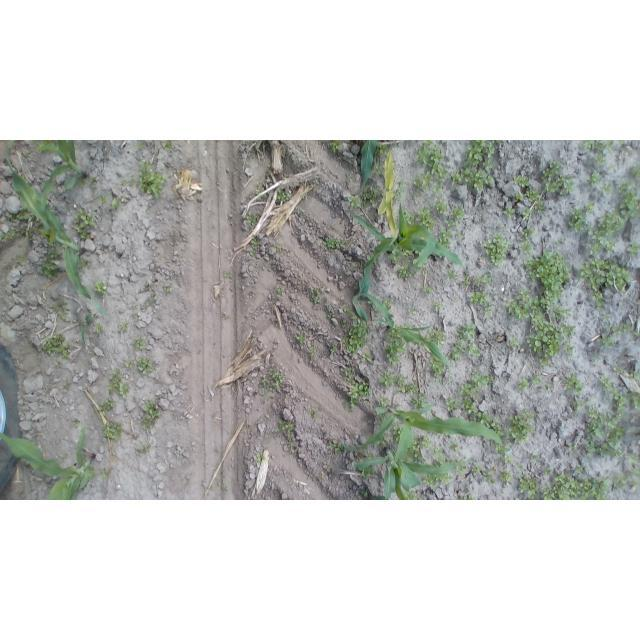Maize: (5, 141, 112, 317), (350, 202, 468, 321), (333, 400, 503, 450), (348, 424, 457, 500), (354, 293, 448, 368), (0, 428, 96, 500), (36, 140, 88, 209), (378, 151, 400, 237), (356, 141, 375, 196)
Weeds: (525, 249, 569, 309), (452, 140, 501, 192), (581, 258, 631, 306), (586, 406, 627, 456), (461, 375, 500, 426), (542, 473, 610, 500), (507, 289, 560, 318), (529, 318, 560, 366), (593, 208, 626, 251), (415, 141, 447, 182), (138, 160, 166, 197), (343, 376, 370, 412), (509, 408, 535, 442), (485, 232, 509, 266), (612, 390, 640, 414), (620, 188, 640, 221), (107, 369, 129, 399), (545, 176, 576, 197), (385, 334, 406, 365), (43, 335, 70, 358), (74, 209, 94, 240), (139, 400, 161, 428), (347, 323, 365, 353), (260, 367, 284, 389), (517, 475, 537, 500), (396, 375, 418, 394), (569, 206, 585, 231), (340, 304, 361, 323), (613, 322, 639, 337), (364, 188, 383, 208), (413, 172, 433, 191), (101, 420, 121, 438), (542, 160, 560, 179), (42, 260, 60, 279), (564, 375, 583, 392), (448, 342, 464, 362), (417, 207, 433, 226), (394, 179, 407, 200), (410, 442, 423, 463), (427, 328, 444, 344), (482, 467, 499, 483), (98, 398, 116, 413), (138, 356, 153, 374), (458, 324, 476, 339), (457, 485, 475, 500), (501, 469, 515, 488), (390, 250, 412, 262), (558, 324, 574, 340), (411, 393, 428, 408), (431, 359, 444, 378), (378, 373, 394, 388), (131, 337, 148, 351), (278, 419, 295, 433), (0, 230, 18, 243), (470, 292, 488, 305), (614, 471, 627, 489), (602, 333, 614, 351), (22, 220, 34, 238), (467, 342, 480, 358), (422, 476, 438, 489), (326, 236, 339, 252), (555, 308, 572, 320), (571, 398, 585, 412), (519, 240, 533, 253), (136, 445, 150, 458), (514, 175, 529, 187), (348, 195, 360, 210), (439, 231, 451, 246), (598, 141, 614, 152), (452, 206, 465, 219), (627, 242, 640, 255), (94, 282, 107, 295), (247, 212, 260, 225), (507, 336, 519, 350), (397, 269, 411, 281), (521, 227, 536, 238), (278, 189, 289, 204), (589, 172, 601, 185), (477, 275, 491, 286), (446, 398, 456, 413), (435, 201, 447, 213), (631, 163, 640, 179), (524, 190, 540, 199), (378, 396, 391, 407), (600, 376, 611, 389), (439, 474, 454, 483), (505, 206, 516, 218), (112, 196, 123, 208), (116, 322, 128, 333), (619, 181, 632, 191), (530, 372, 540, 385), (15, 257, 31, 265), (405, 492, 421, 500), (462, 271, 471, 285), (363, 353, 374, 364), (330, 142, 341, 153), (591, 244, 601, 256), (362, 467, 374, 477), (422, 436, 434, 446), (404, 212, 414, 224), (629, 450, 639, 462), (18, 212, 31, 221), (603, 184, 613, 195), (374, 165, 385, 175), (376, 145, 386, 156), (596, 152, 605, 164), (123, 179, 136, 187), (585, 202, 595, 212), (103, 469, 113, 479), (327, 439, 337, 449), (523, 208, 532, 219), (49, 247, 58, 258), (384, 299, 393, 310), (161, 140, 173, 148), (592, 350, 600, 362), (627, 370, 640, 377), (534, 200, 543, 210), (393, 426, 402, 436), (163, 284, 173, 293), (447, 270, 457, 279), (433, 300, 442, 310), (519, 379, 528, 389), (468, 464, 478, 473), (496, 446, 506, 455), (630, 469, 640, 478), (515, 192, 523, 203), (434, 188, 443, 197), (564, 344, 573, 353), (361, 490, 370, 499), (603, 313, 612, 322), (456, 465, 466, 473), (528, 453, 538, 461), (586, 141, 594, 150), (450, 444, 459, 452), (225, 271, 234, 279), (484, 306, 493, 314), (614, 366, 623, 374), (345, 367, 353, 376), (445, 219, 455, 226), (310, 408, 317, 418), (314, 287, 324, 294), (424, 284, 431, 294), (73, 419, 79, 430), (587, 223, 592, 236), (432, 461, 445, 466), (136, 141, 144, 149), (99, 195, 107, 203), (256, 454, 264, 462), (310, 295, 318, 303), (65, 380, 72, 389), (341, 239, 350, 246), (297, 332, 304, 341), (544, 465, 553, 472), (308, 349, 316, 356), (249, 248, 256, 256), (505, 455, 512, 463), (629, 480, 640, 485), (618, 140, 627, 146), (91, 180, 97, 189), (433, 449, 442, 455), (251, 237, 257, 246), (410, 308, 417, 315), (340, 321, 348, 327), (609, 163, 616, 169), (559, 237, 565, 244), (56, 360, 62, 367), (125, 361, 132, 367), (131, 314, 139, 319), (277, 286, 282, 294), (327, 309, 332, 317), (77, 182, 83, 188), (330, 345, 336, 351), (63, 454, 68, 461), (355, 262, 362, 267), (274, 245, 281, 250), (380, 414, 386, 419), (386, 429, 391, 435), (256, 189, 261, 195), (568, 446, 574, 451), (517, 461, 522, 467), (544, 386, 549, 391), (434, 378, 439, 382)
